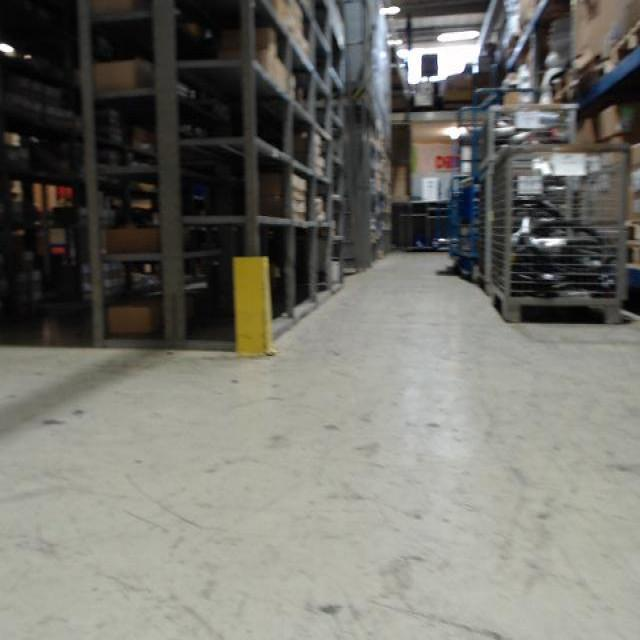pallet: (609, 18, 640, 69), (621, 241, 640, 271), (621, 218, 640, 244)
stillage: (482, 139, 635, 331), (488, 103, 584, 151), (472, 162, 490, 286)
